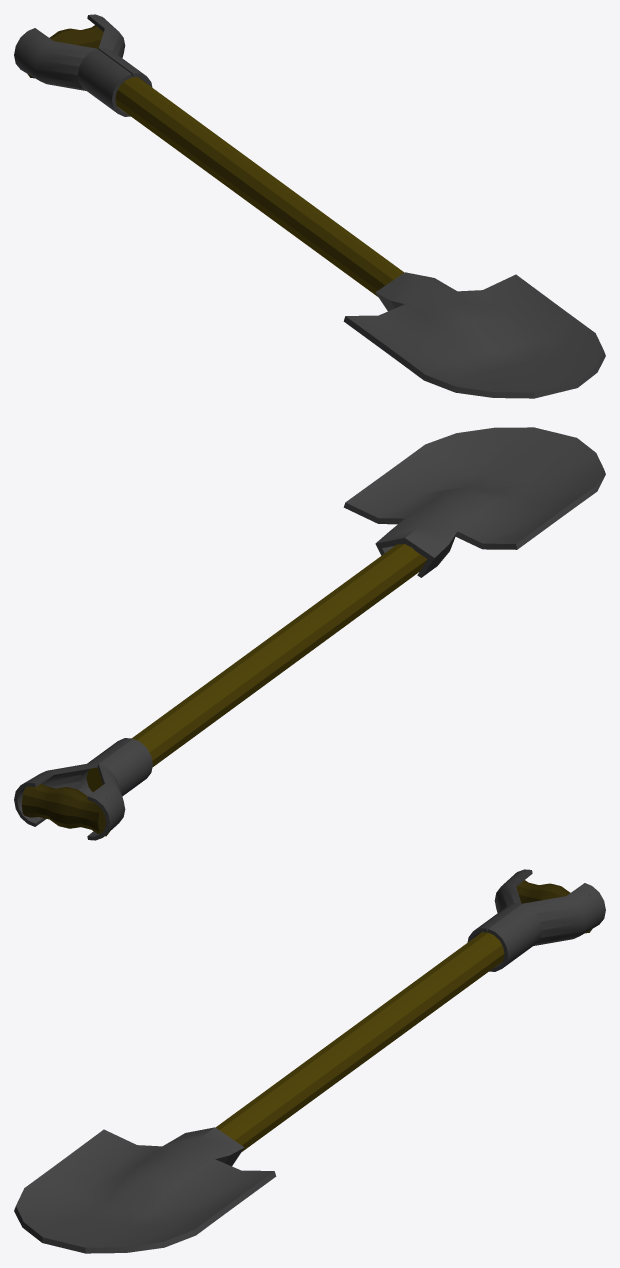
The model's file is shovel.fbx.
3 views of the same model, one above another, from view 1: azimuth 30°, elevation 25°; view 2: azimuth 150°, elevation 25°; view 3: azimuth 330°, elevation 25° (orthographic).
Visible parts, largest first — view 1: pPlane2; view 2: pPlane2; view 3: pPlane2.
Boxes of the visible parts, x1,y1,x2,y2 form: pPlane2: (14,14,605,398); pPlane2: (14,427,605,840); pPlane2: (14,869,605,1253).
Size of the model in its own units: 1 by 0.2433 by 4.95.
